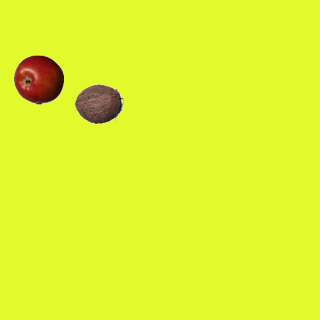Apple Braeburn: (13, 54, 63, 104)
Cocos: (73, 78, 123, 128)
